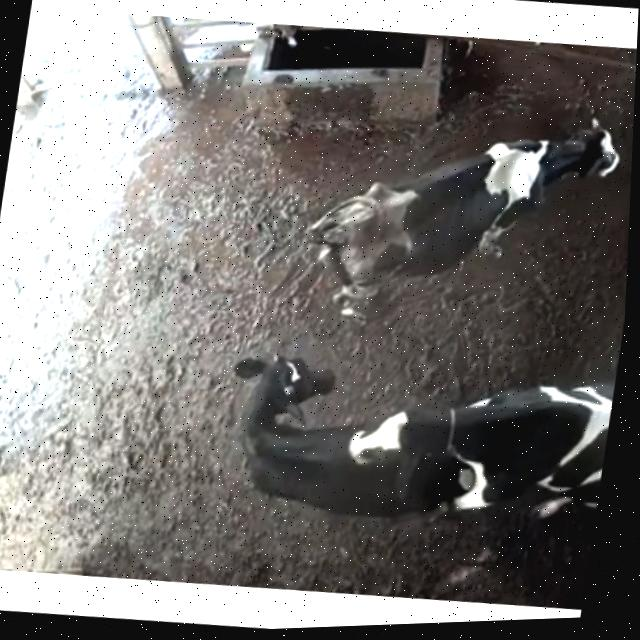ride: (324, 340, 618, 572)
